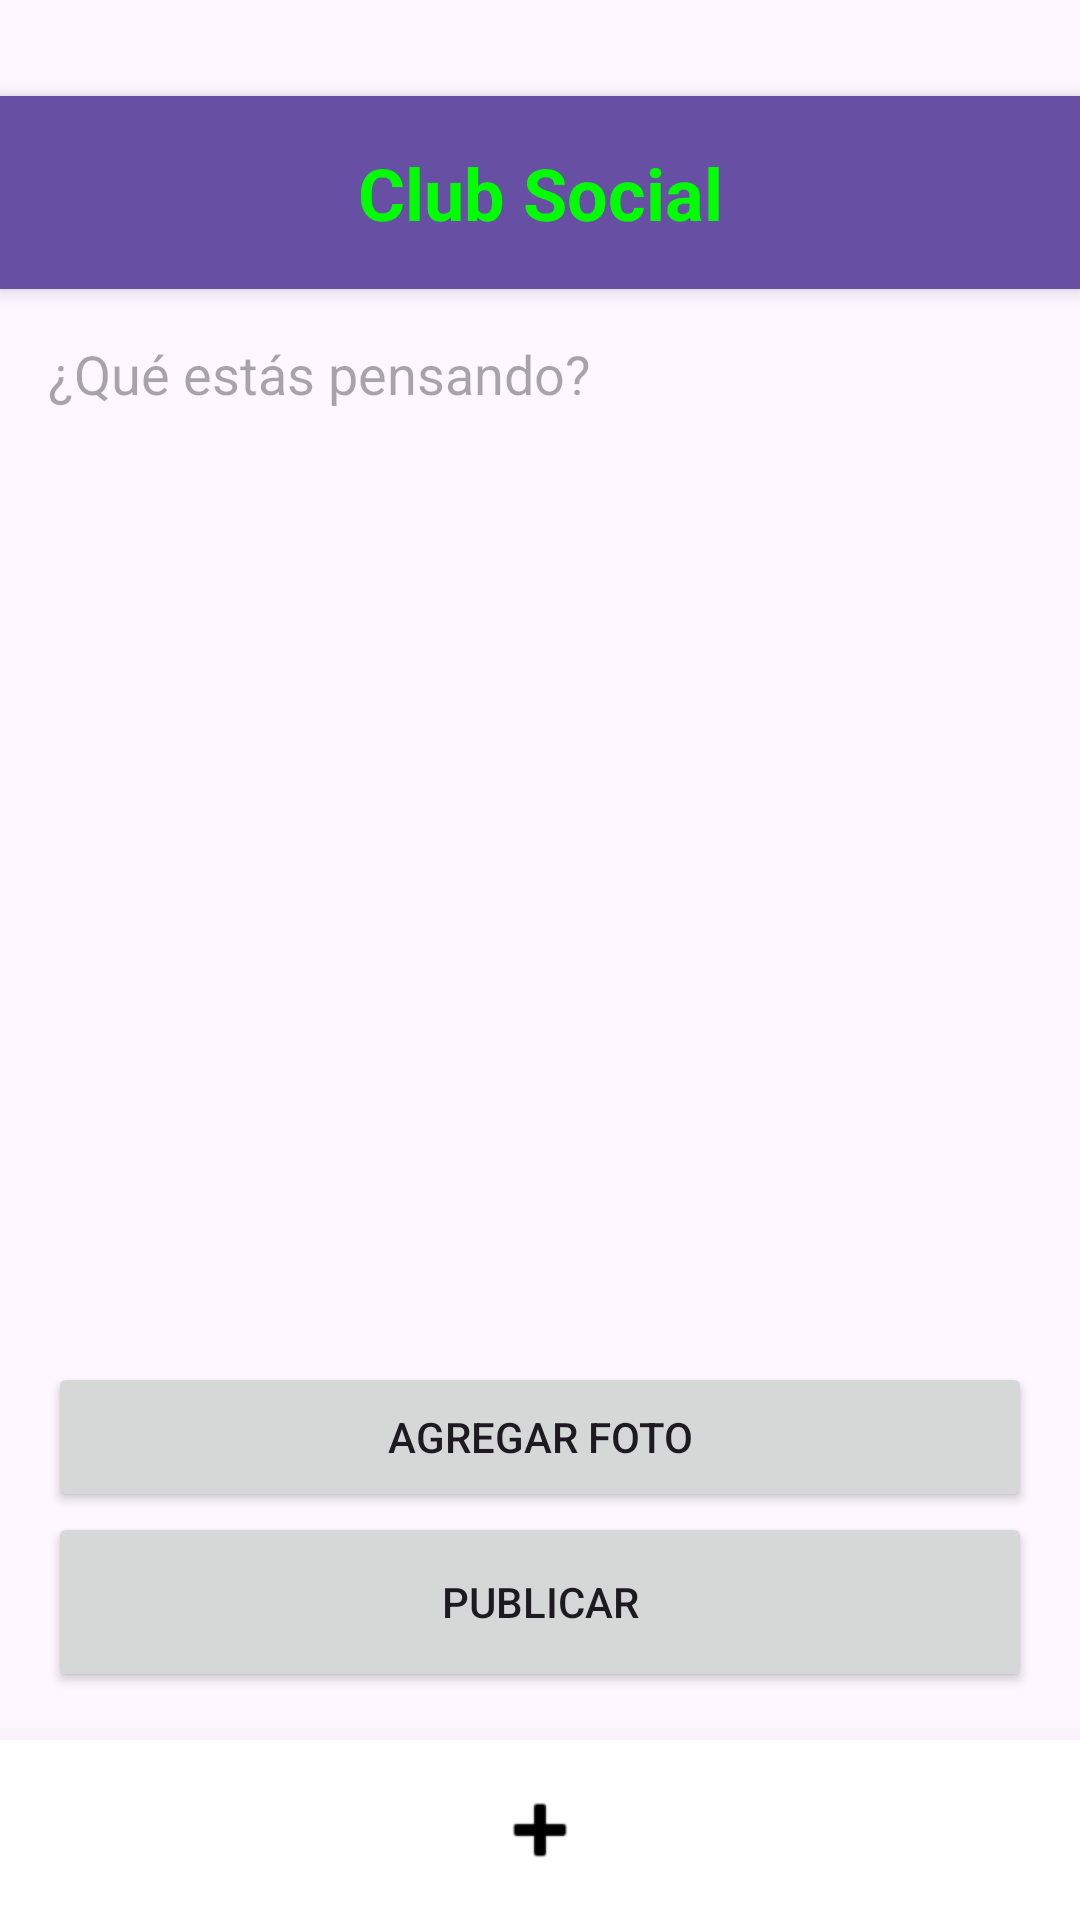

Point at icon controls on the screen. Image size 1080 x 1920, points as [x,y].
Crear publicación: [540,1830]
